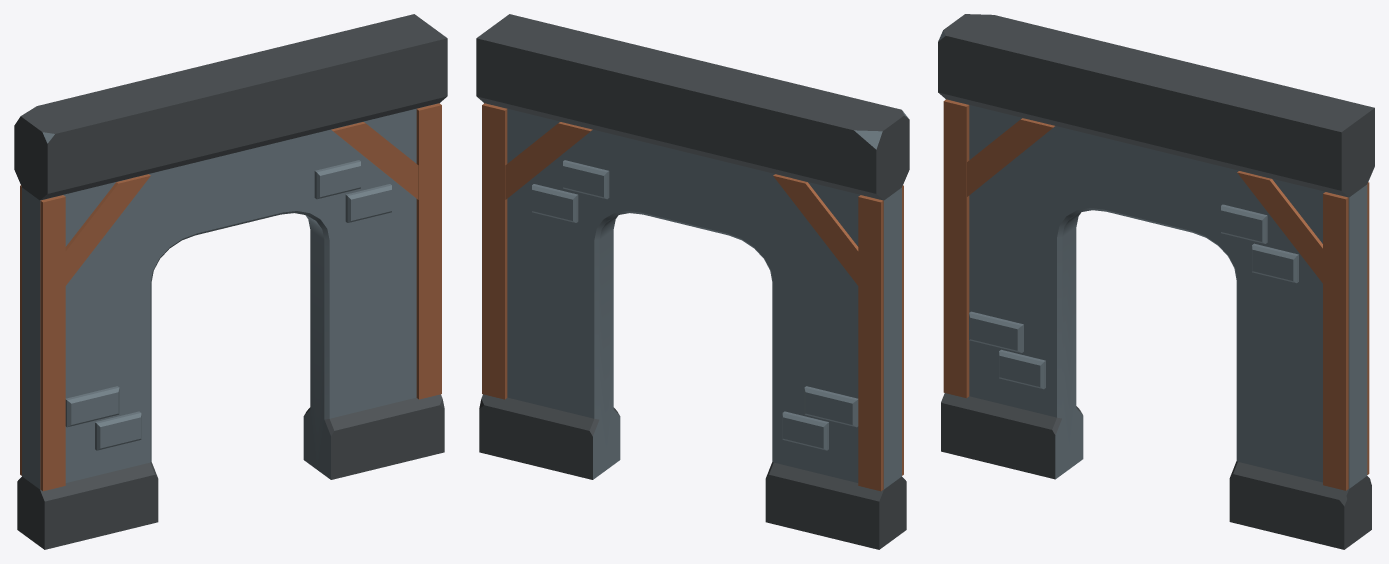
File: door_2_3.obj
3 renders of one model, left to right at view 1: azimuth 30°, elevation 25°; view 2: azimuth 150°, elevation 25°; view 3: azimuth 330°, elevation 25°, orthographic.
Parts seen in each view (by area): view 1: wall_2_3; view 2: wall_2_3; view 3: wall_2_3.
Boxes of the visible parts, box(x1,y1,x2,y2) form: wall_2_3: box(14, 14, 447, 549); wall_2_3: box(476, 14, 909, 549); wall_2_3: box(938, 14, 1374, 549).
Size of the model in its own units: 1.54 by 1.53 by 0.2207.
